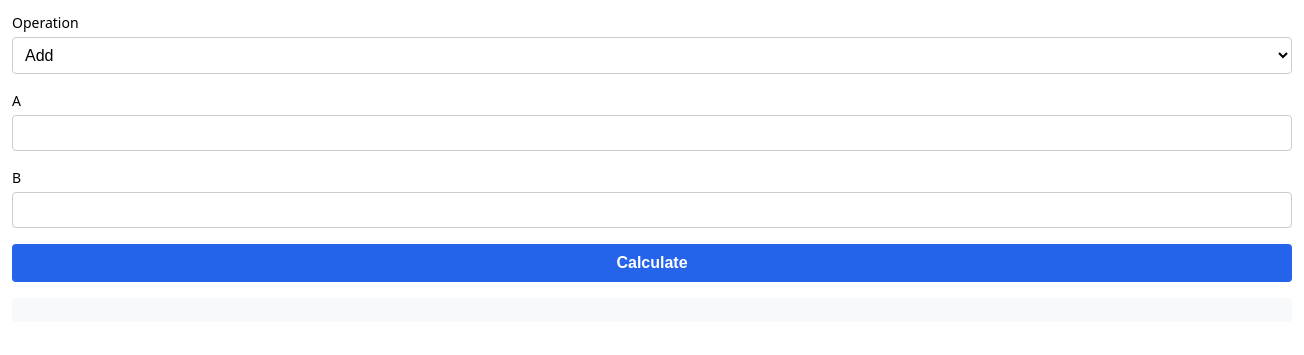
submits a calculation and displays the result
Type "2" into the field labelled "A". click: (652,133)
box: left=12, top=115, right=1292, bottom=151
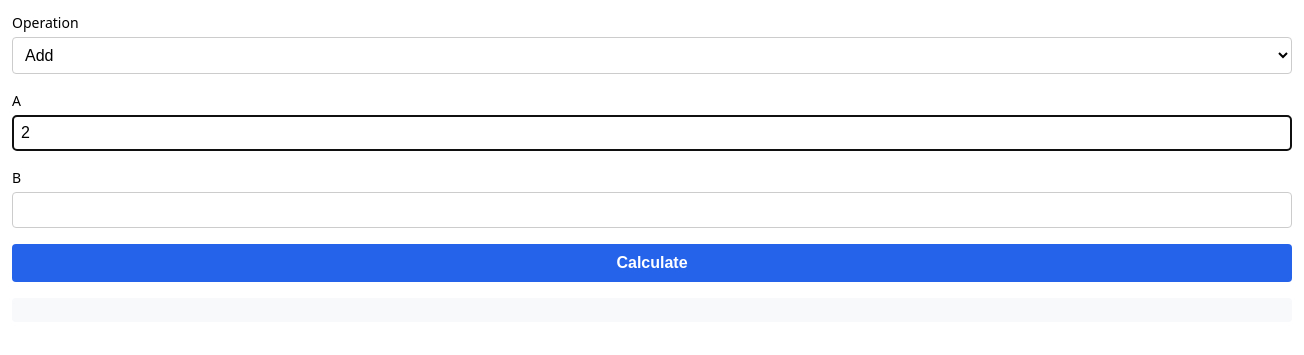
Type "3" into the field labelled "B". click: (652,210)
box: left=12, top=192, right=1292, bottom=228
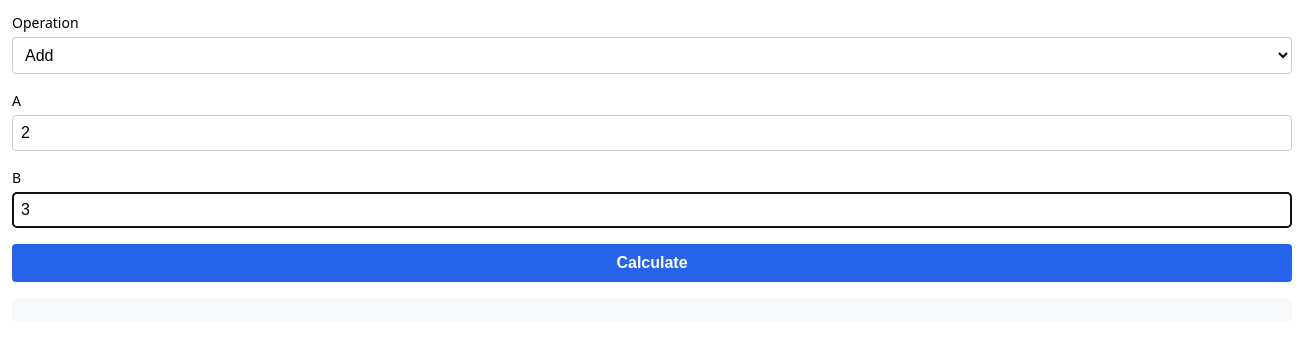
Click the button "Calculate". click: (652,263)
box: left=12, top=244, right=1292, bottom=282
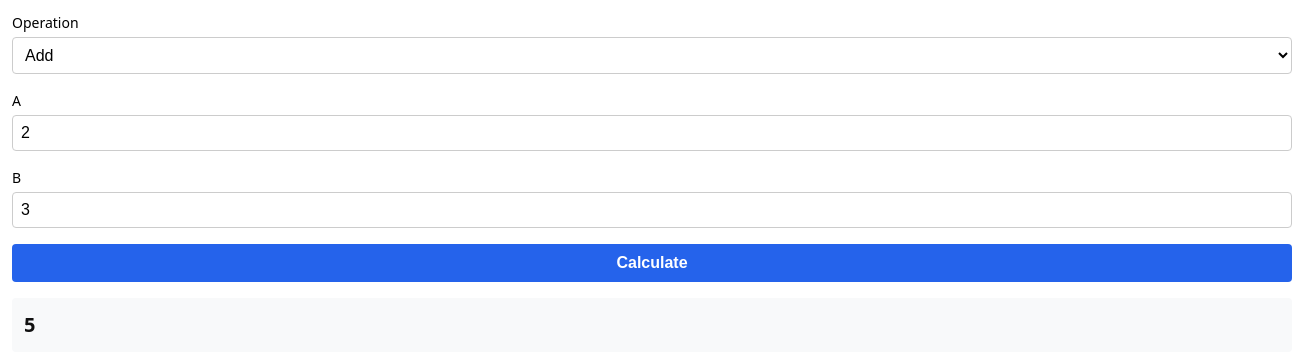
Now the text "5" is shown, box left=24, top=311, right=36, bottom=338
